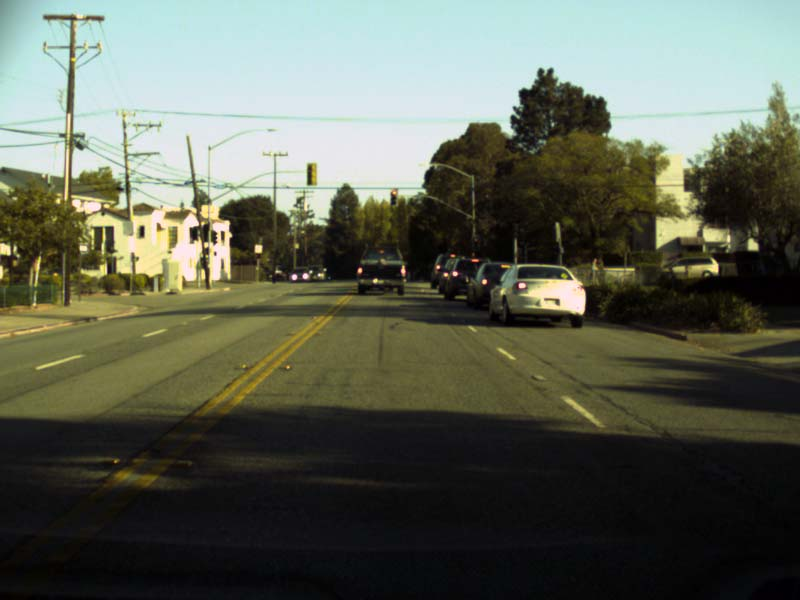Red: (391, 189, 397, 204), (473, 237, 478, 249)
